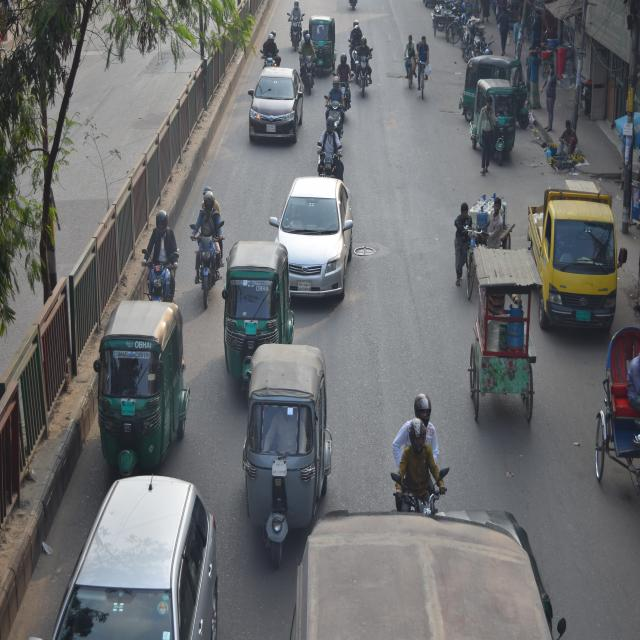bus: (293, 490, 562, 640)
car: (39, 483, 229, 640), (273, 176, 360, 294), (247, 65, 307, 144)
motorbike: (391, 416, 443, 524), (184, 208, 225, 308), (136, 237, 182, 320), (312, 130, 344, 183), (332, 59, 356, 115), (322, 84, 344, 142), (297, 42, 317, 96), (352, 45, 372, 98), (283, 1, 303, 48), (344, 22, 360, 70), (260, 33, 277, 74)
